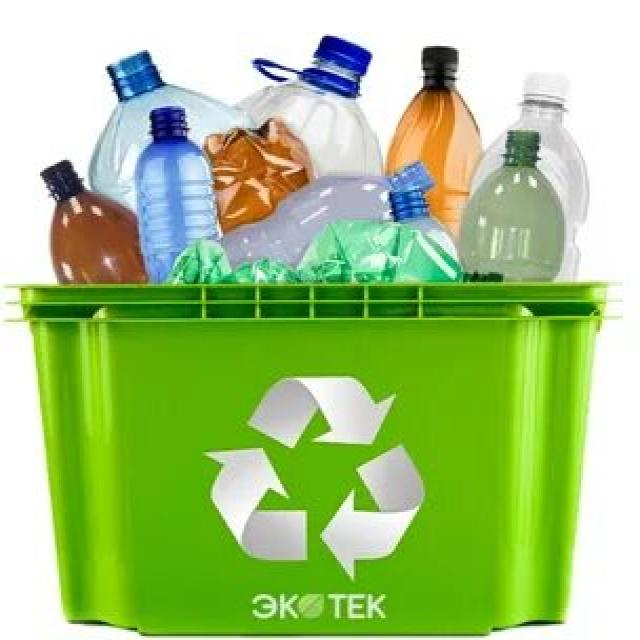blue: (136, 108, 216, 284)
brown: (386, 67, 482, 220), (201, 116, 315, 232), (40, 160, 146, 283)
green: (456, 132, 566, 282)
